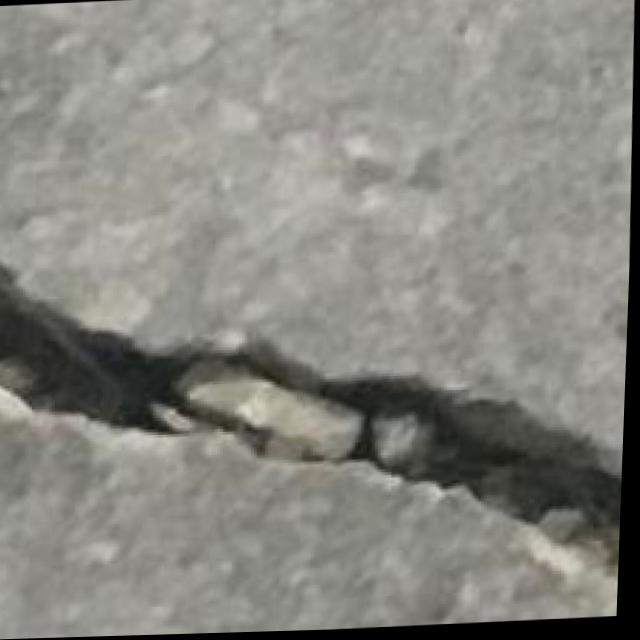Crack: (0, 248, 611, 580)
